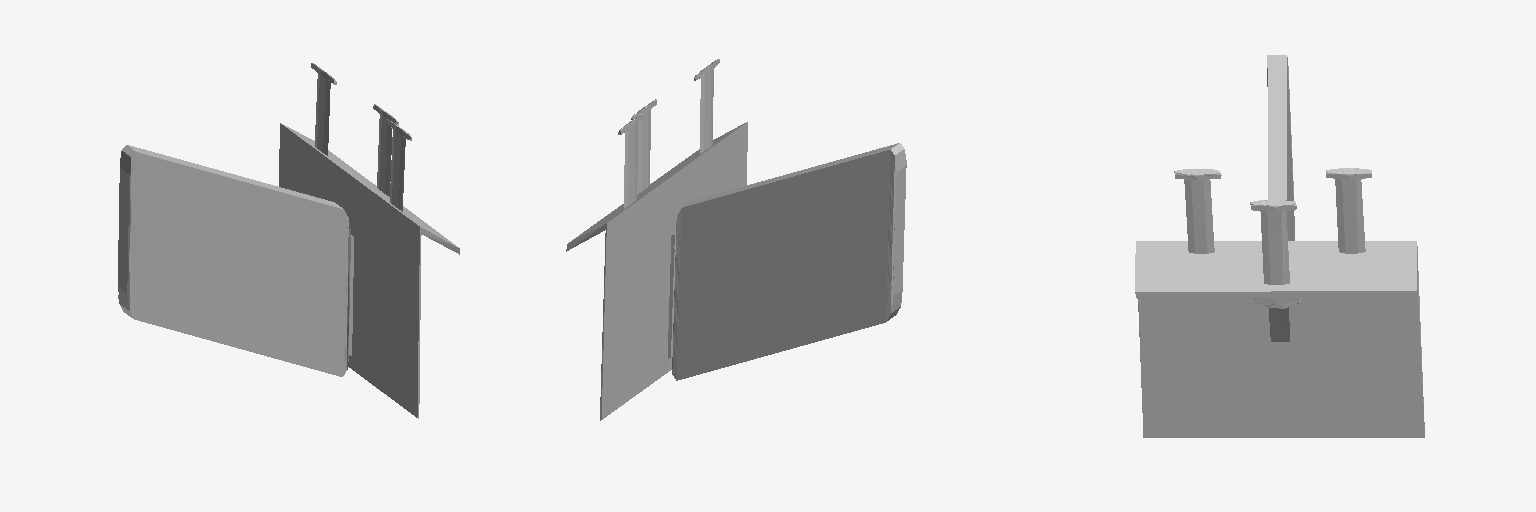
File: mesh2_save.obj
3 views of the same model, side by side, from view 1: azimuth 30°, elevation 25°; view 2: azimuth 150°, elevation 25°; view 3: azimuth 270°, elevation 25° (orthographic).
Size of the model in its own units: 0.9925 by 1 by 0.9407.